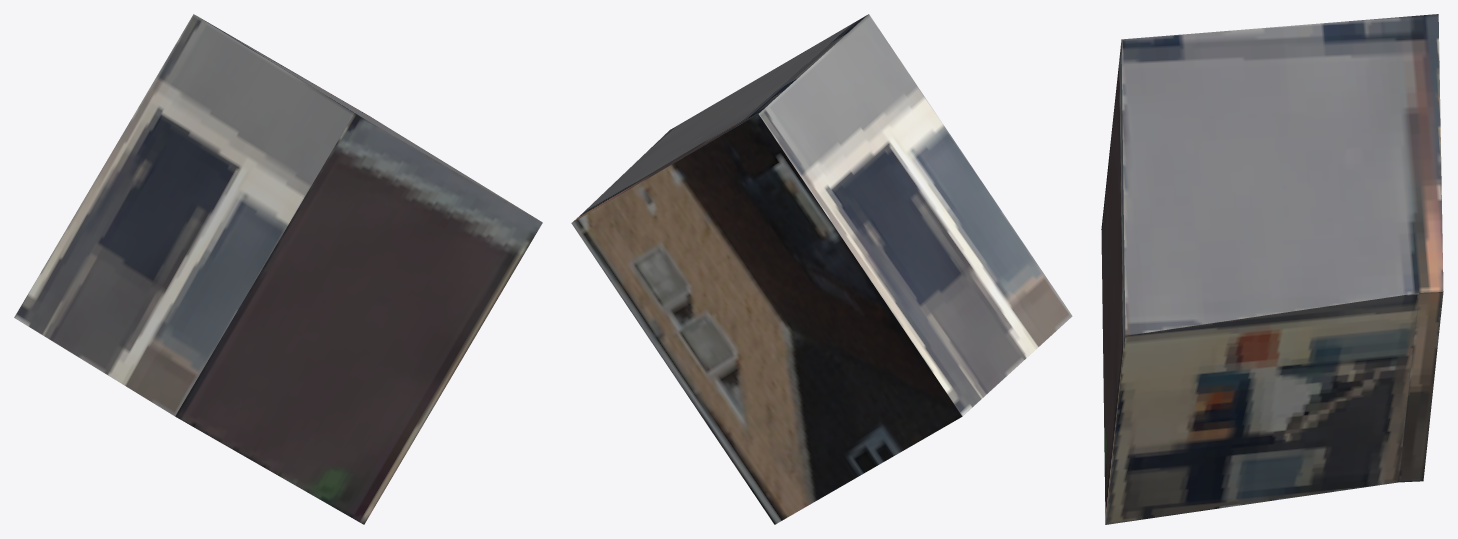
3 renders of one model, left to right at view 1: azimuth 30°, elevation 25°; view 2: azimuth 150°, elevation 25°; view 3: azimuth 270°, elevation 25°, orthographic. The views are drawn at different scales.
Parts seen in each view (by area): view 1: BAG_0599100000690499 (×2); view 2: BAG_0599100000690499 (×3); view 3: BAG_0599100000690499.
Part boxes in pixels (left/top/right/bottom): BAG_0599100000690499 (×2): left=14, top=14, right=542, bottom=524; BAG_0599100000690499 (×3): left=571, top=14, right=1072, bottom=524; BAG_0599100000690499: left=1101, top=14, right=1443, bottom=524.
Size of the model in its own units: 11.02 by 10.8 by 6.78.
2 materials, 2 textured.
